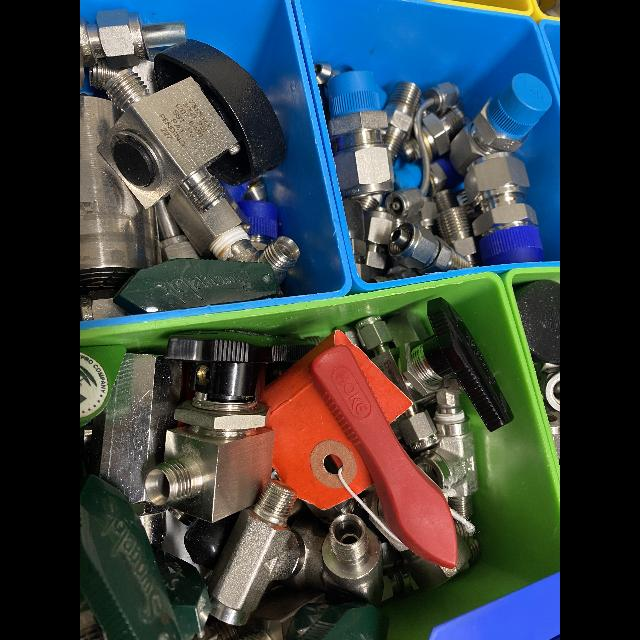Stainless Steel: (97, 69, 240, 214), (208, 479, 323, 625), (145, 393, 274, 523), (80, 96, 161, 295), (91, 354, 181, 503), (167, 189, 300, 285), (356, 316, 444, 452), (385, 82, 459, 218), (414, 380, 478, 517), (80, 9, 186, 90), (450, 97, 530, 177), (465, 152, 538, 236), (329, 111, 394, 198), (322, 514, 383, 604), (389, 222, 470, 274), (382, 82, 421, 166), (434, 189, 476, 267), (156, 195, 200, 261), (90, 58, 157, 93), (343, 199, 369, 283), (422, 108, 467, 156), (364, 207, 393, 268), (131, 504, 168, 544), (80, 289, 125, 321), (388, 312, 428, 347), (402, 138, 422, 162), (314, 61, 334, 84)
